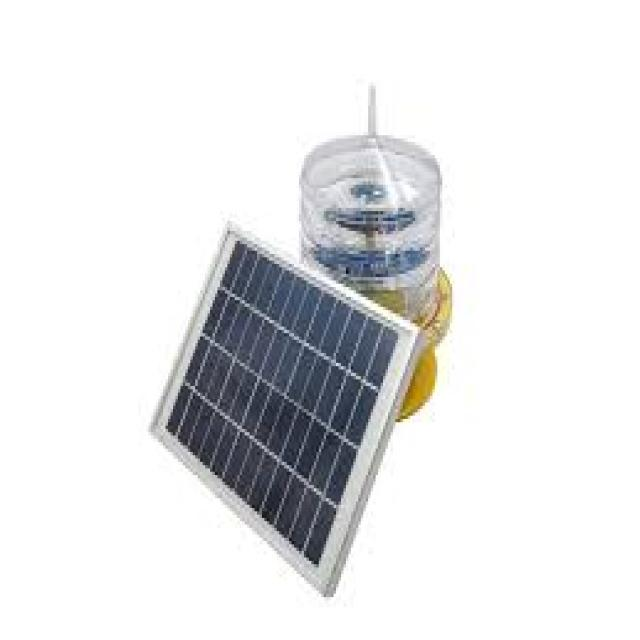no faulty: (167, 242, 397, 569)
